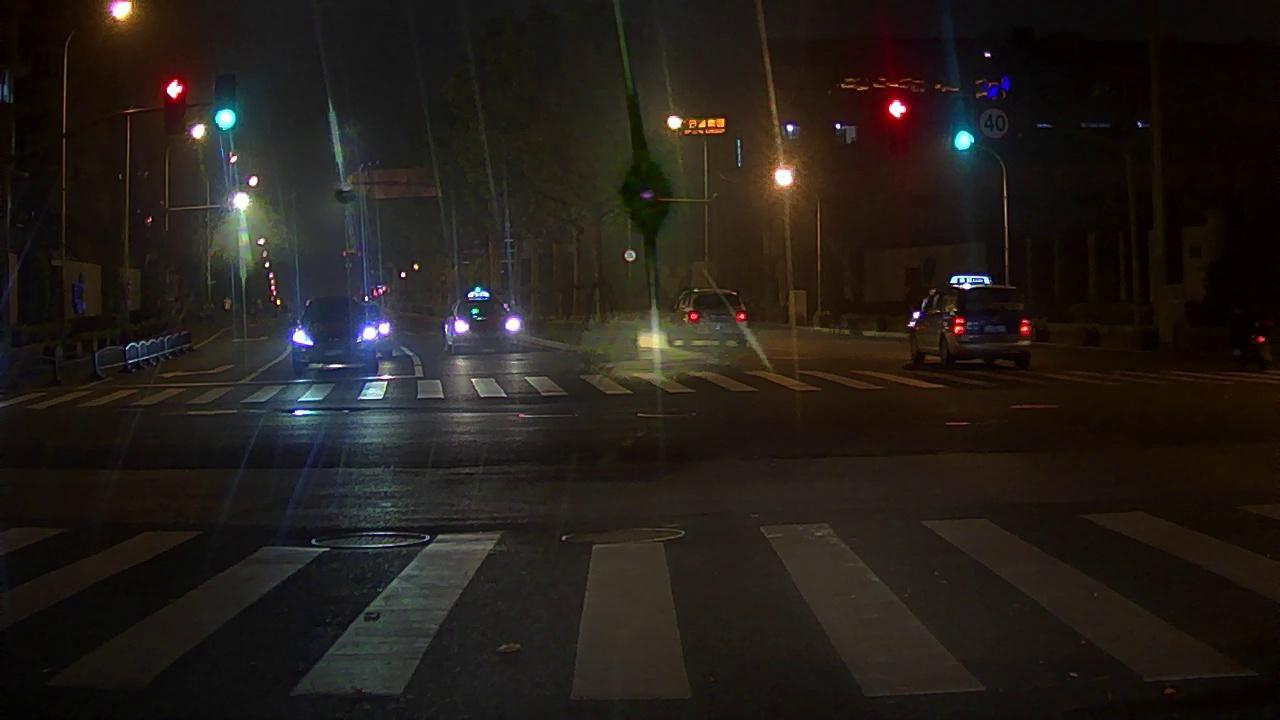traffic_light: (215, 72, 236, 128), (166, 76, 184, 127), (953, 131, 974, 151), (889, 97, 908, 119)
